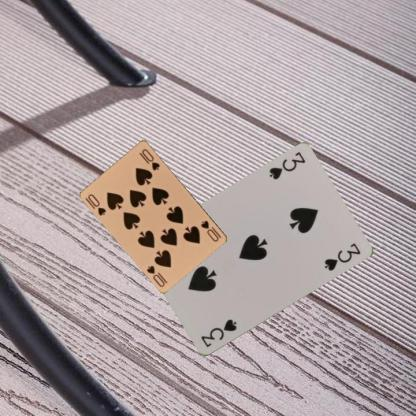10s: (198, 218, 223, 243), (86, 191, 108, 217)
3s: (266, 149, 307, 181), (198, 317, 238, 349)
